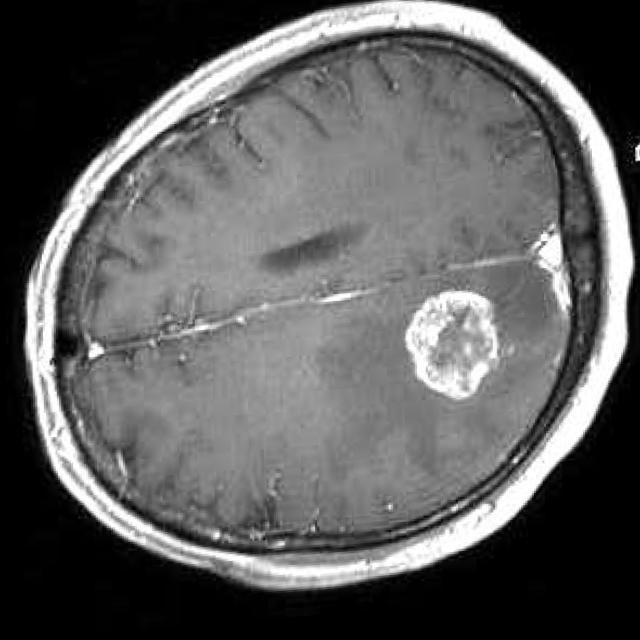Tumor: (408, 301, 497, 407)
